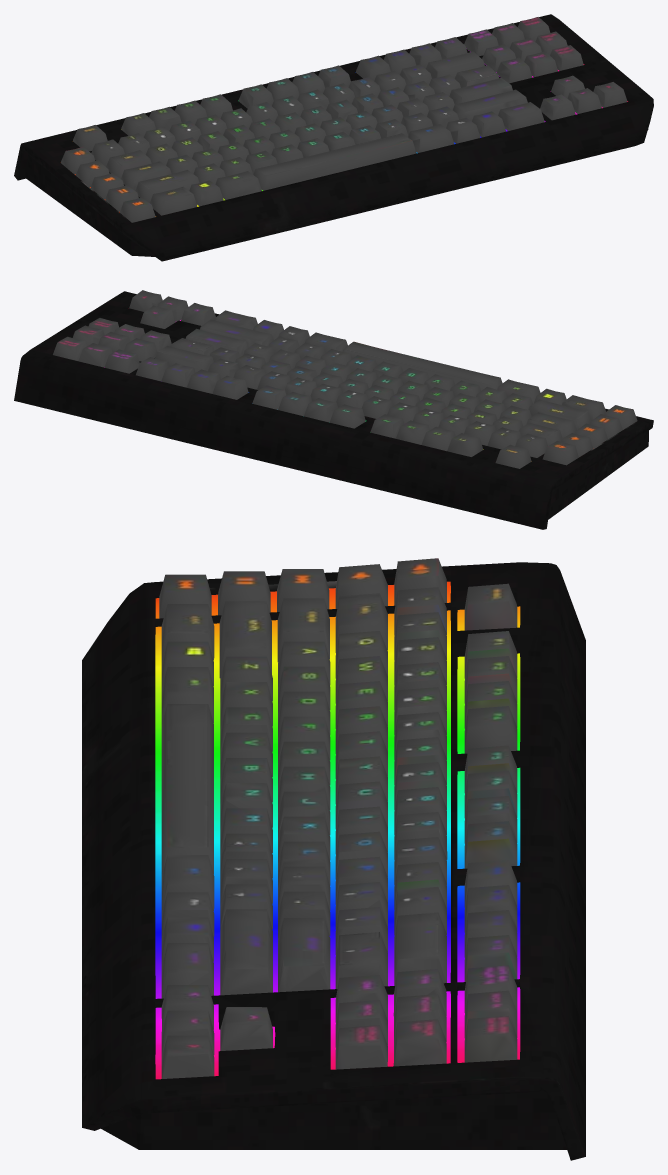
File: kb-logitech-pro-x-tkl_lod2.glb
3 views of the same model, one above another, from view 1: azimuth 30°, elevation 25°; view 2: azimuth 150°, elevation 25°; view 3: azimuth 270°, elevation 25° (orthographic). The views are drawn at different scales.
Parts seen in each view (by area): view 1: body; view 2: body; view 3: body.
Part boxes in pixels (x1,y1,x2,y2): body: [14, 14, 653, 261]; body: [14, 290, 653, 529]; body: [82, 558, 585, 1160].
Size of the model in its own units: 0.361 by 0.034 by 0.149.
1 material, 1 textured.
